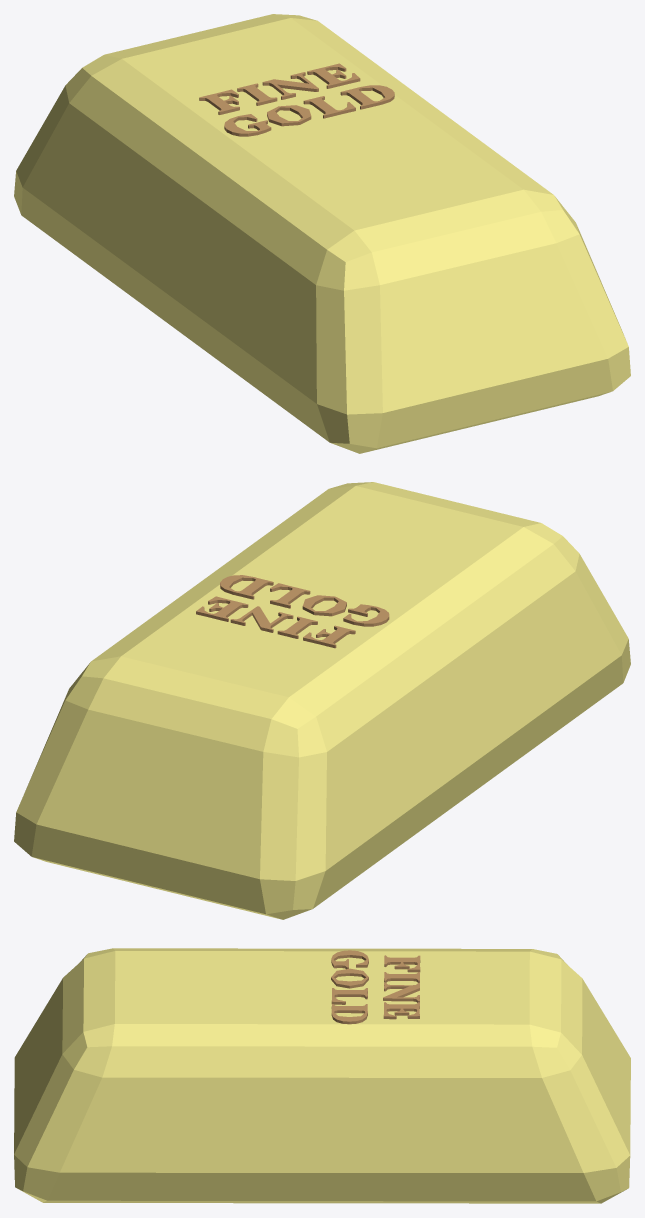
The model's file is Gold_Bar.fbx.
3 views of the same model, one above another, from view 1: azimuth 30°, elevation 25°; view 2: azimuth 150°, elevation 25°; view 3: azimuth 270°, elevation 25° (orthographic). The views are drawn at different scales.
Visible parts, largest first — view 1: Gold_Bar; view 2: Gold_Bar; view 3: Gold_Bar.
Boxes of the visible parts, x1=… form: Gold_Bar: x1=14, y1=14, x2=630, y2=453; Gold_Bar: x1=14, y1=482, x2=630, y2=919; Gold_Bar: x1=14, y1=948, x2=630, y2=1203.
Size of the model in its own units: 21.95 by 43.28 by 12.91.
